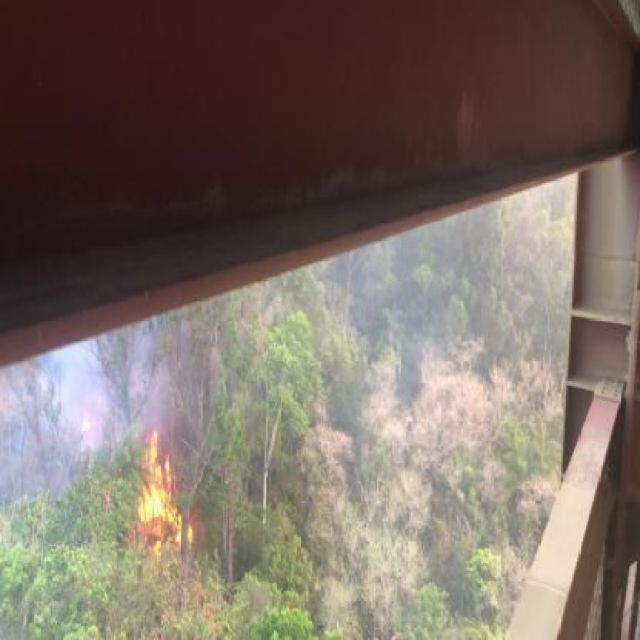Fire: (132, 424, 197, 564)
